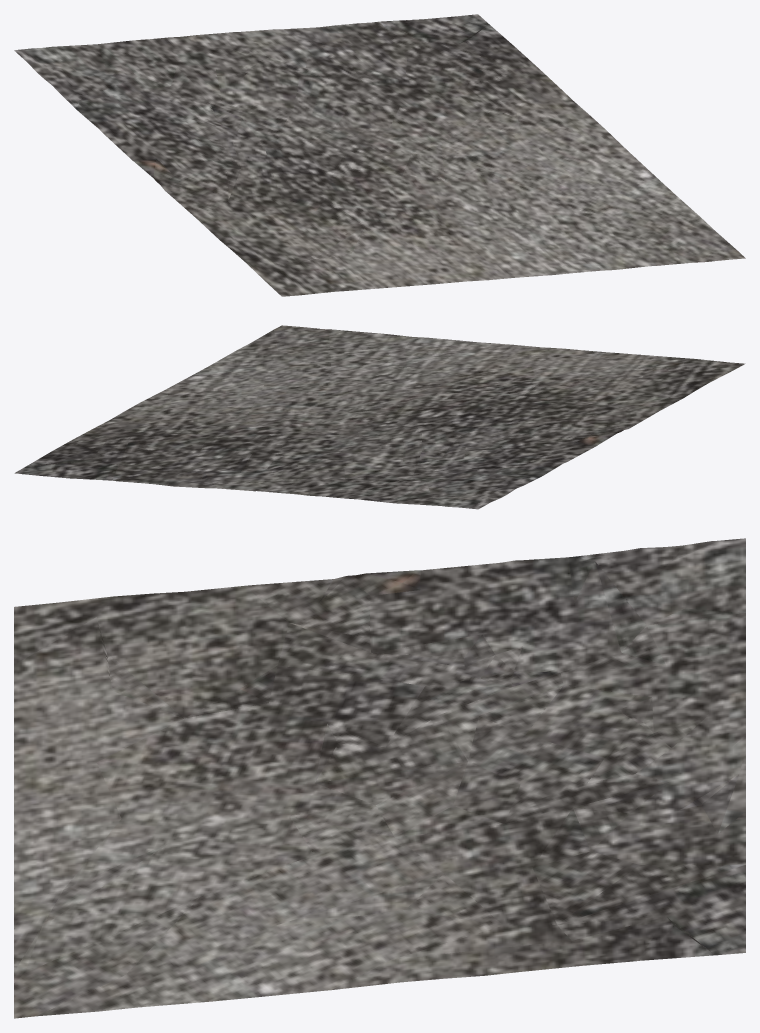
The picture shows the model from 3 angles, top to bottom: view 1: azimuth 30°, elevation 25°; view 2: azimuth 150°, elevation 25°; view 3: azimuth 270°, elevation 25°; orthographic projection. The views are drawn at different scales.
Size of the model in its own units: 0.8374 by 0.2158 by 0.8374.
3 materials, 3 textured.
